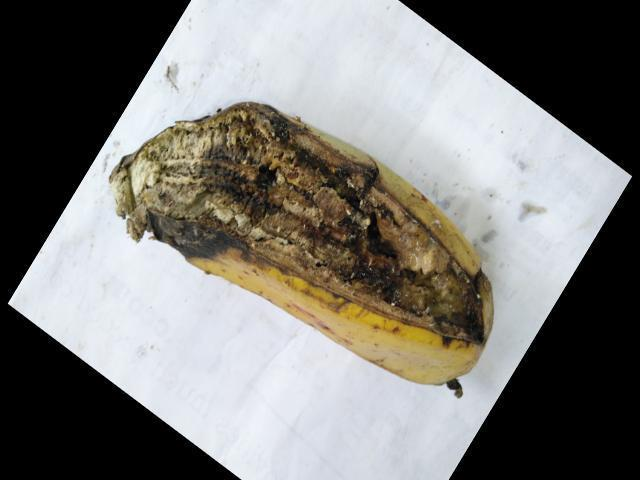rotten: (111, 81, 531, 377)
